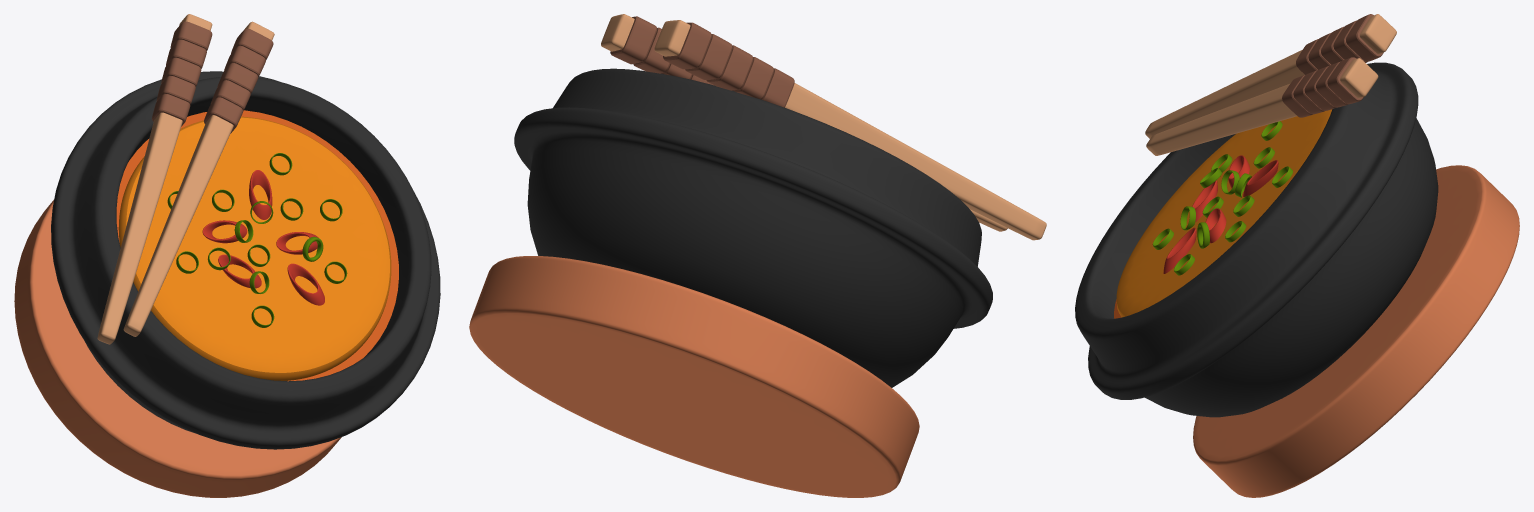
Rendered from gyeran jjim.glb.
3 views of the same model, side by side, from view 1: azimuth 30°, elevation 25°; view 2: azimuth 150°, elevation 25°; view 3: azimuth 270°, elevation 25° (orthographic). The views are drawn at different scales.
Parts seen in each view (by area): view 1: Sphere.016, Circle.013, Cylinder.144, Cube.113, Cube.111, Circle.012, Cube.114, Cube.112, Cylinder.148, Cylinder.150, Cylinder.145, Cylinder.147 (+1 smaller); view 2: Sphere.016, Cylinder.144, Cube.113, Cube.114, Cube.112, Cube.111; view 3: Sphere.016, Cylinder.144, Circle.013, Cube.111, Cube.113, Cube.112, Cube.114, Cylinder.150, Cylinder.148, Cylinder.149.
Boxes of the visible parts, <box> form: Sphere.016: <box>51,71,440,449</box>; Circle.013: <box>118,116,391,380</box>; Cylinder.144: <box>14,199,341,497</box>; Cube.113: <box>97,14,212,344</box>; Cube.111: <box>123,21,274,336</box>; Circle.012: <box>116,110,398,381</box>; Cube.114: <box>152,21,212,126</box>; Cube.112: <box>204,28,273,133</box>; Cylinder.148: <box>249,170,272,219</box>; Cylinder.150: <box>287,263,324,305</box>; Cylinder.145: <box>218,254,261,288</box>; Cylinder.147: <box>202,220,247,243</box>; Sphere.016: <box>514,68,992,387</box>; Cylinder.144: <box>469,256,919,497</box>; Cube.113: <box>654,20,1046,240</box>; Cube.114: <box>663,22,794,107</box>; Cube.112: <box>610,16,713,85</box>; Cube.111: <box>601,14,1007,231</box>; Sphere.016: <box>1075,62,1438,417</box>; Cylinder.144: <box>1193,165,1519,497</box>; Circle.013: <box>1116,109,1332,317</box>; Cube.111: <box>1146,58,1378,155</box>; Cube.113: <box>1145,14,1396,138</box>; Cube.112: <box>1282,57,1363,117</box>; Cube.114: <box>1296,14,1383,74</box>; Cylinder.150: <box>1163,227,1196,273</box>; Cylinder.148: <box>1243,160,1278,196</box>; Cylinder.149: <box>1205,208,1226,243</box>.
Bounding box in the file's own units: 2.62 × 2.9 × 2.55.
